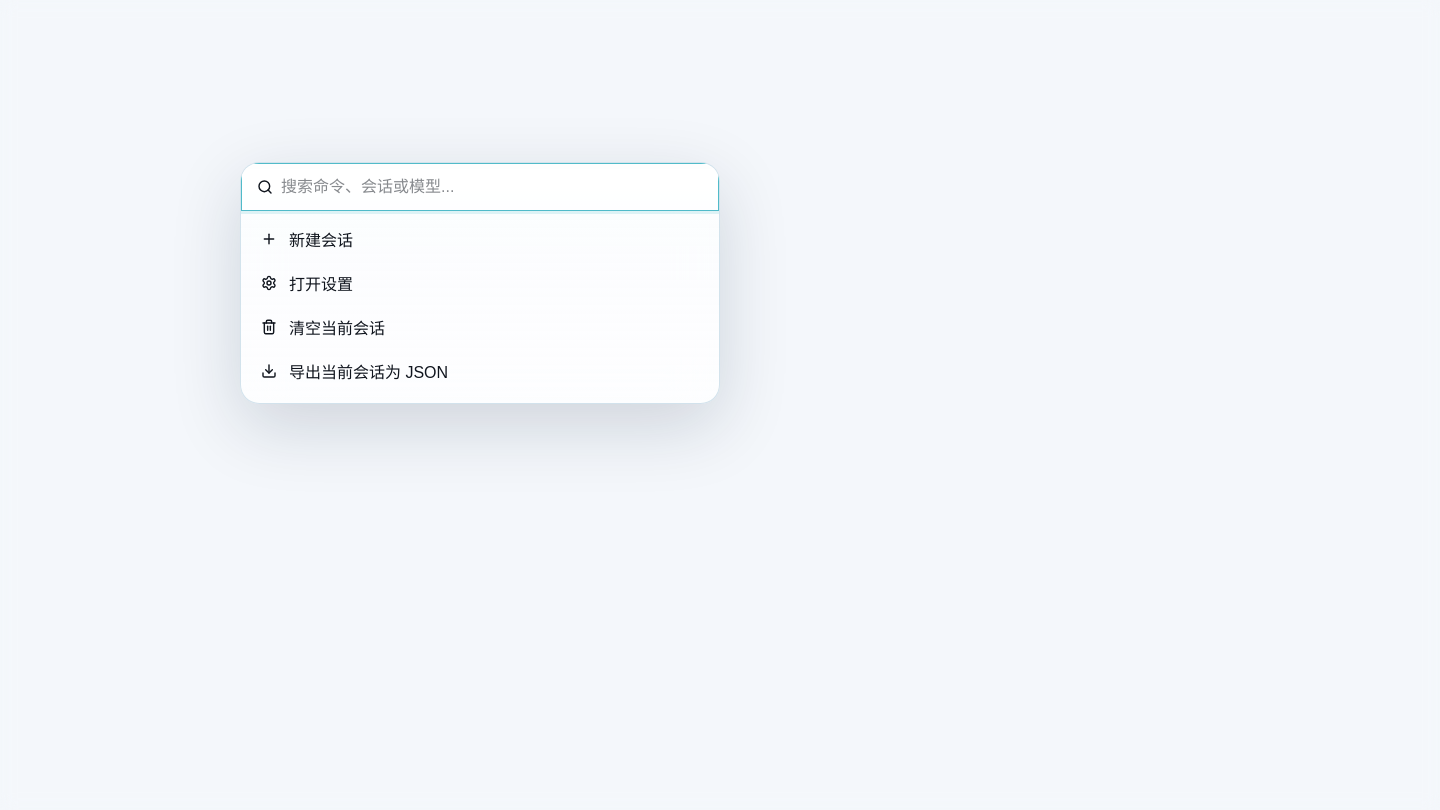
Scenario: CommandPalette › filters commands by query
Type "设置" into the field named "命令搜索" at (492, 187), box [281, 175, 703, 199]
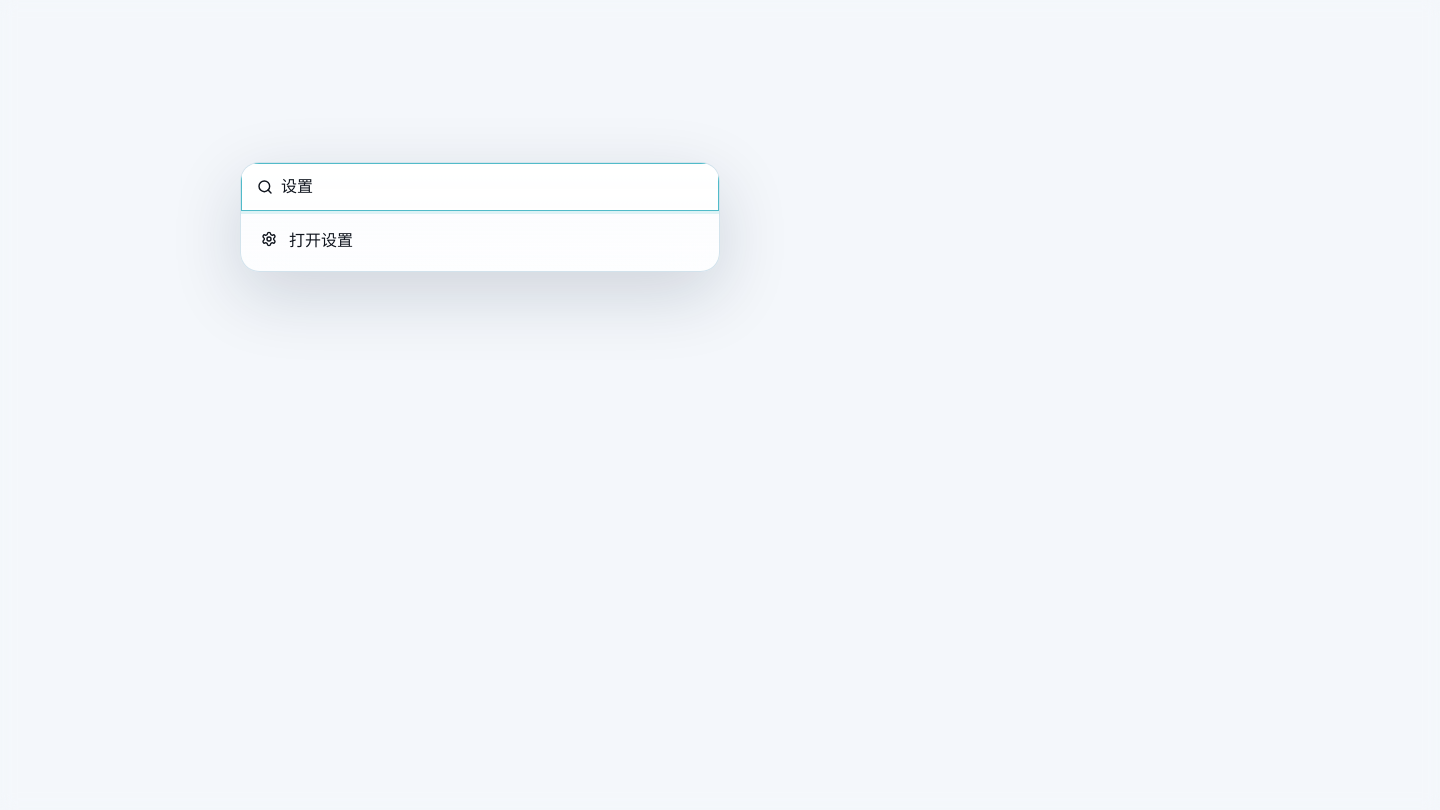
expect the text "打开设置" is shown: met, box [289, 232, 353, 249]
expect the button "新建会话" is gone: met
